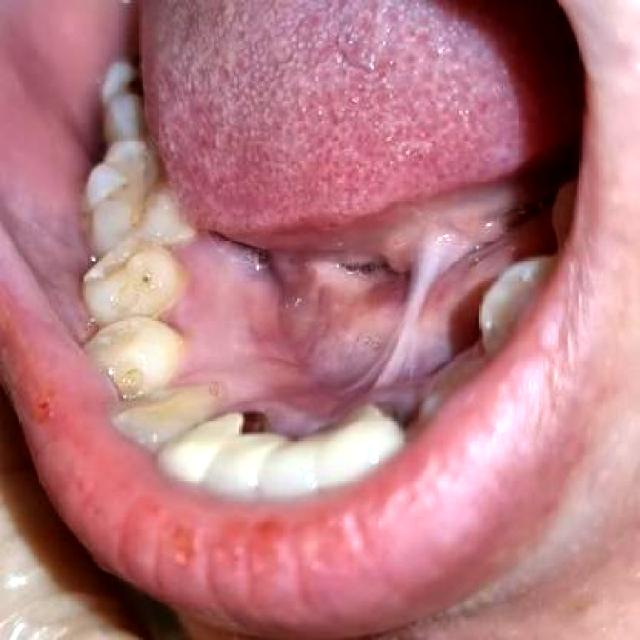Plaque: (128, 268, 158, 295)
